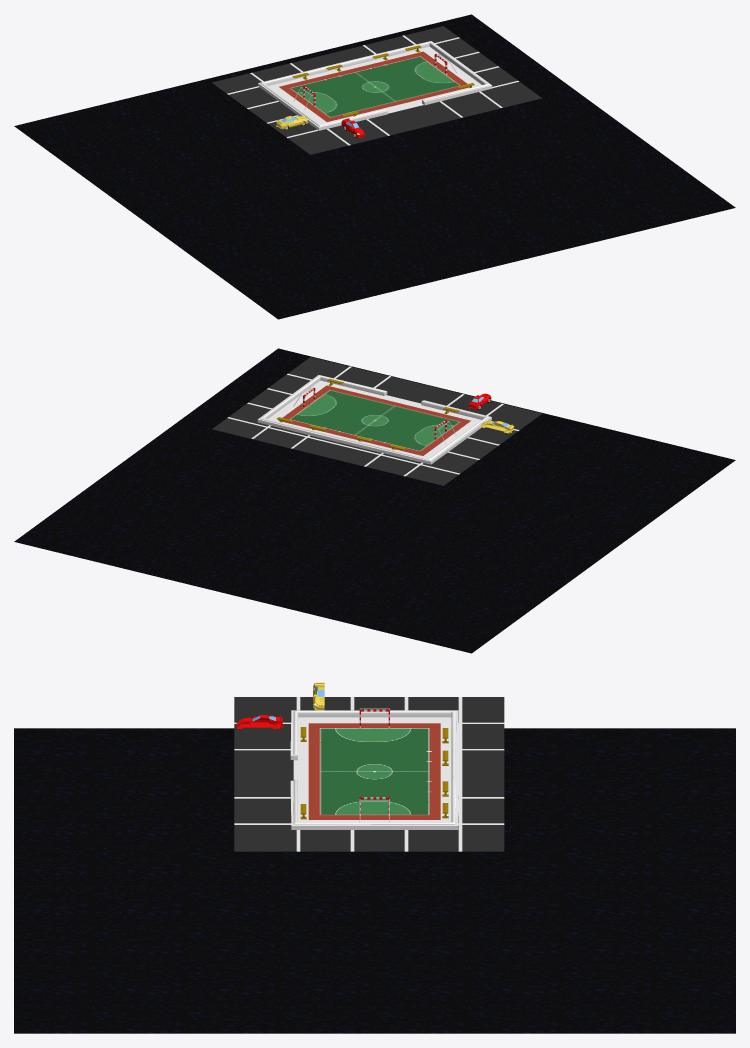
The model's file is soccer.glb.
The picture shows the model from 3 angles, top to bottom: view 1: azimuth 30°, elevation 25°; view 2: azimuth 150°, elevation 25°; view 3: azimuth 270°, elevation 25°; orthographic projection. The views are drawn at different scales.
Visible parts, largest first — view 1: bg, Plane.005, Court, Plane.001; view 2: bg, Plane.005, Court, Plane.001; view 3: bg, Plane.005, Court, Plane.001.
Part boxes in pixels (x1,y1,x2,y2): bg: (14,14,735,319); Plane.005: (212,26,541,154); Court: (279,51,470,121); Plane.001: (258,41,492,130); bg: (14,348,735,653); Plane.005: (212,357,542,485); Court: (278,385,470,455); Plane.001: (257,375,491,464); bg: (14,728,735,1033); Plane.005: (234,697,504,851); Court: (308,723,440,819); Plane.001: (290,710,458,829).
Size of what is drawn, in the model's own units: 1932 by 376 by 1932.
Materials: 16 (2 with a texture image).
